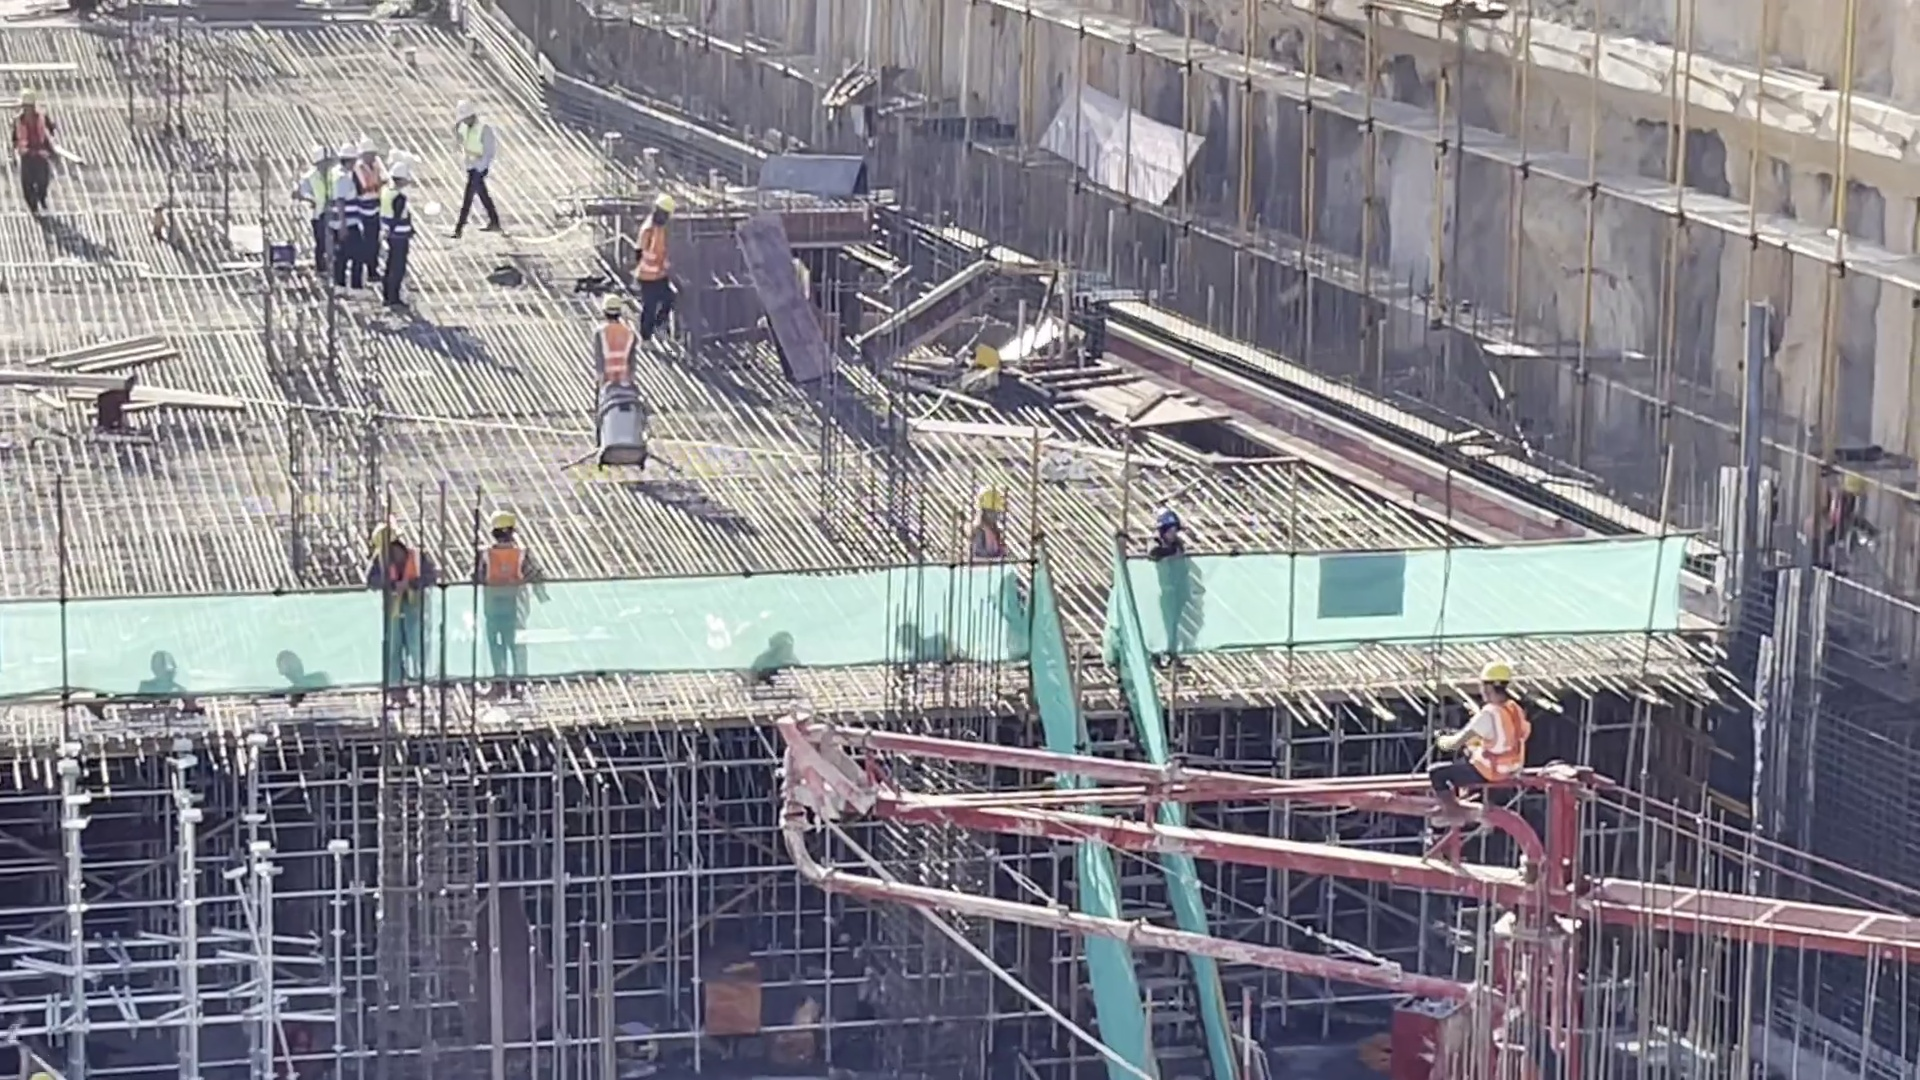helmet: (303, 139, 410, 191), (481, 499, 519, 537), (359, 517, 401, 550), (644, 184, 678, 222), (599, 290, 621, 312), (451, 101, 474, 122)
person: (302, 134, 419, 315), (1426, 652, 1528, 825), (467, 515, 543, 694), (358, 522, 433, 694), (1143, 514, 1197, 684), (3, 82, 64, 222), (444, 94, 501, 238), (630, 178, 671, 336), (589, 292, 644, 393), (961, 472, 1016, 573)
vest: (1456, 702, 1526, 778), (586, 324, 640, 379), (637, 223, 673, 302), (475, 541, 531, 579)
